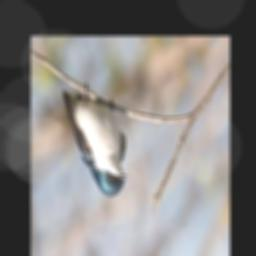Swallow: (61, 81, 126, 198)
